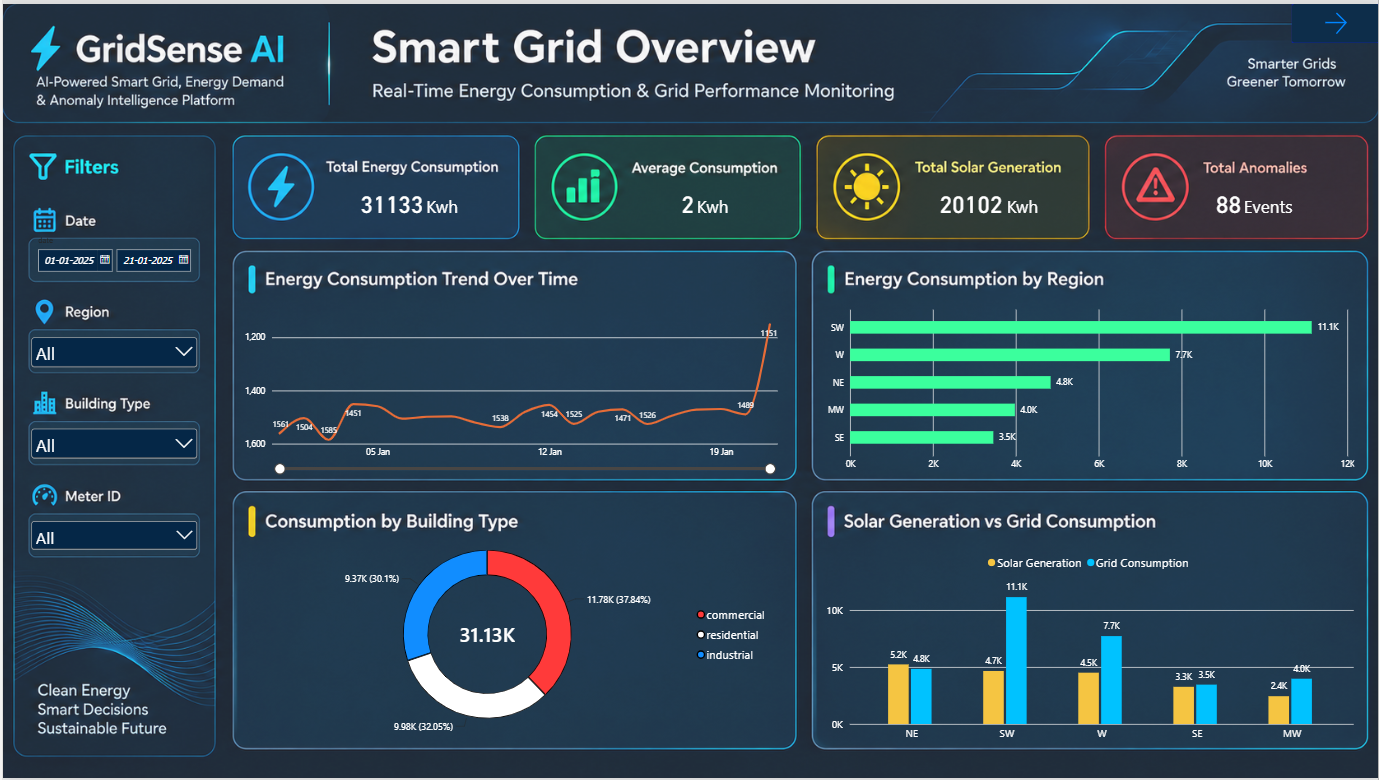

Layout of this report page (visuals, bound fields, positions):
{"tool":"powerbi","page":{"name":"Energy Overview","canvas":[1920,1080],"ordinal":0},"visuals":[{"type":"advanceCardE03760C5AB684758B56AA29F9E6C257B","fields":{"mainMeasure":["smartgrid_cleaned.Total Energy Consumption"]},"box":[448.7,240.8,236.7,82.3],"z":0},{"type":"advanceCardE03760C5AB684758B56AA29F9E6C257B","fields":{"mainMeasure":["smartgrid_cleaned.Average Consumption"]},"box":[870.7,240.8,218.2,82.3],"z":1000},{"type":"advanceCardE03760C5AB684758B56AA29F9E6C257B","fields":{"mainMeasure":["smartgrid_cleaned.Total Solar Generation"]},"box":[1261.8,240.8,228.5,82.3],"z":2000},{"type":"advanceCardE03760C5AB684758B56AA29F9E6C257B","fields":{"mainMeasure":["smartgrid_cleaned.Total Anomalies"]},"box":[1609.6,240.8,271.7,82.3],"z":3000},{"type":"lineChart","fields":{"Category":["smartgrid_cleaned.timestamp.Variation.Date Hierarchy.Year","smartgrid_cleaned.timestamp.Variation.Date Hierarchy.Quarter","smartgrid_cleaned.timestamp.Variation.Date Hierarchy.Month","smartgrid_cleaned.timestamp.Variation.Date Hierarchy.Day"],"Y":["smartgrid_cleaned.Total Energy Consumption"]},"box":[321.1,405.5,782.2,265.5],"z":4000},{"type":"clusteredBarChart","fields":{"Category":["smartgrid_cleaned.region"],"Y":["smartgrid_cleaned.Total Energy Consumption"]},"box":[1132.1,405.5,769.8,265.5],"z":5000},{"type":"donutChart","fields":{"Category":["smartgrid_cleaned.building_type"],"Y":["smartgrid_cleaned.Total Energy Consumption"]},"box":[368,711.6,720.4,336.6],"z":6000},{"type":"clusteredColumnChart","fields":{"Category":["smartgrid_cleaned.region"],"Y":["Sum(smartgrid_cleaned.solar_generation_kwh)","smartgrid_cleaned.Total Energy Consumption"]},"box":[1132,748.3,769.2,300],"z":7000},{"type":"slicer","fields":{"Values":["smartgrid_cleaned.date"]},"box":[34.9,322.7,240.7,59.3],"z":8000},{"type":"slicer","fields":{"Values":["smartgrid_cleaned.region"]},"box":[34.9,461,240.7,50.6],"z":9000},{"type":"slicer","fields":{"Values":["smartgrid_cleaned.building_type"]},"box":[34.9,588,240.7,54.1],"z":10000},{"type":"slicer","fields":{"Values":["smartgrid_cleaned.meter_id"]},"box":[34.9,716,240.7,52.3],"z":11000},{"type":"actionButton","box":[1798.3,0,122.1,54.1],"z":12000}]}

Visuals, with their boxes in screenshot pixels (x1, y1, x2, y2), scaled from the page's 1920x1080 canvas onto the 1382x780 screenshot:
advanceCardE03760C5AB684758B56AA29F9E6C257B - smartgrid_cleaned.Total Energy Consumption: crop(323, 174, 493, 233)
advanceCardE03760C5AB684758B56AA29F9E6C257B - smartgrid_cleaned.Average Consumption: crop(627, 174, 784, 233)
advanceCardE03760C5AB684758B56AA29F9E6C257B - smartgrid_cleaned.Total Solar Generation: crop(908, 174, 1073, 233)
advanceCardE03760C5AB684758B56AA29F9E6C257B - smartgrid_cleaned.Total Anomalies: crop(1159, 174, 1354, 233)
lineChart - smartgrid_cleaned.timestamp.Variation.Date Hierarchy.Year x smartgrid_cleaned.timestamp.Variation.Date Hierarchy.Quarter: crop(231, 293, 794, 485)
clusteredBarChart - smartgrid_cleaned.region x smartgrid_cleaned.Total Energy Consumption: crop(815, 293, 1369, 485)
donutChart - smartgrid_cleaned.building_type x smartgrid_cleaned.Total Energy Consumption: crop(265, 514, 783, 757)
clusteredColumnChart - smartgrid_cleaned.region x Sum(smartgrid_cleaned.solar_generation_kwh): crop(815, 540, 1368, 757)
slicer - smartgrid_cleaned.date: crop(25, 233, 198, 276)
slicer - smartgrid_cleaned.region: crop(25, 333, 198, 369)
slicer - smartgrid_cleaned.building_type: crop(25, 425, 198, 464)
slicer - smartgrid_cleaned.meter_id: crop(25, 517, 198, 555)
actionButton: crop(1294, 0, 1381, 39)
